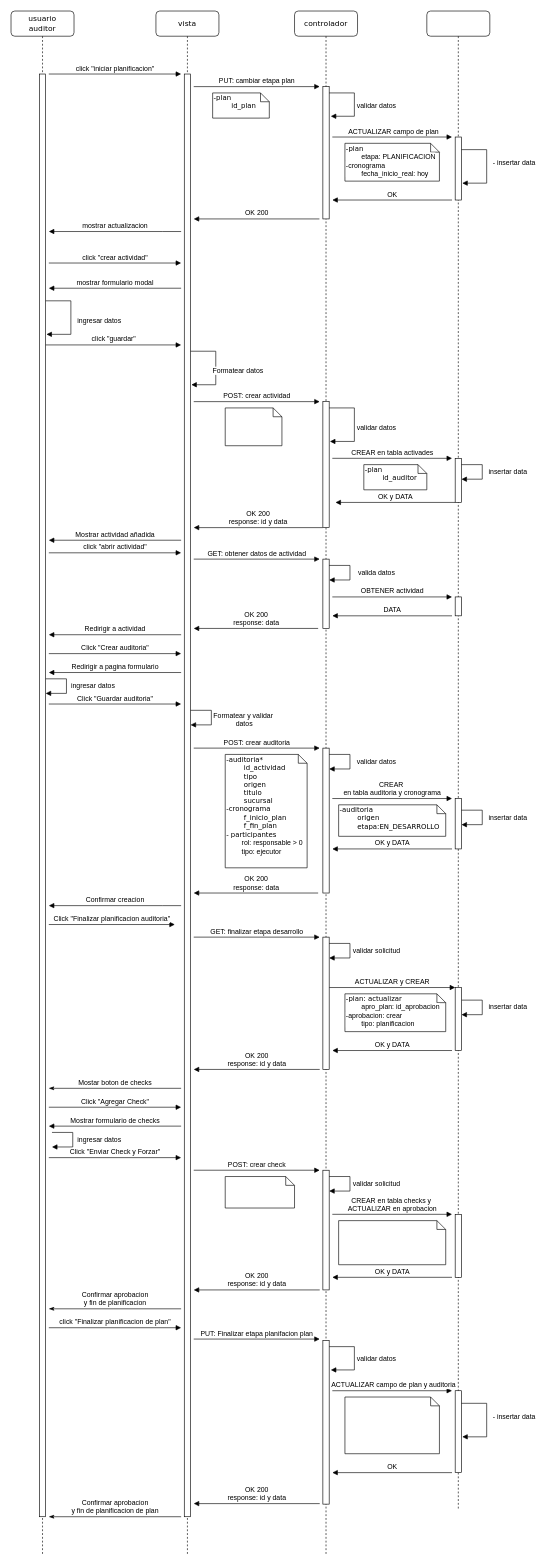
The diagram is 548 pixels wide and 1566 high, and some of its shapes have lost their labels. Each missing label, with the centre of its shape:
"- plan etapa: EJECUCION -cronograma fecha_fin_real: hoy -auditorias: etapa: NULL" belongs at point 391,1425.
"-actividades id_plan titulo riesgo" belongs at point 253,426.
"-aprobacion aprobacion: APROBACION_JUST checks: id_check" belongs at point 392,1242.
"-checks check comentario" belongs at point 260,1192.
"modelo" belongs at point 458,760.
